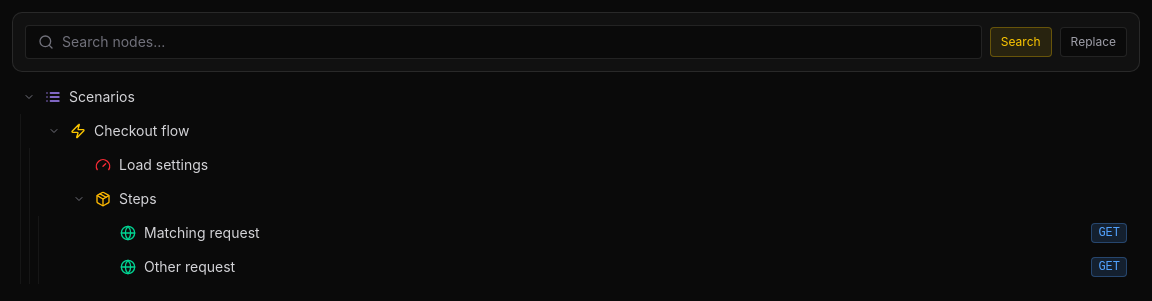
Test: YAMLTreeView search filtering › keeps request descendants hidden when a scenario only matches through duplicated request data
Type "needle-token" into the field with placeholder "Search nodes...". click: point(515, 42)
box: 62,32 -> 969,52
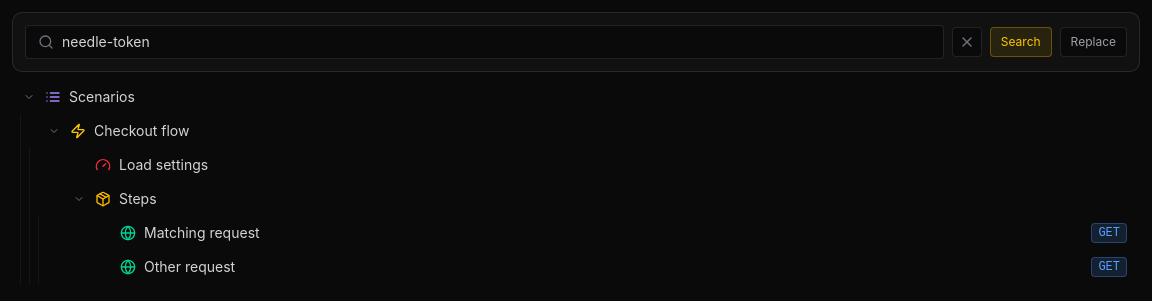
Click the button with aria-label "Search tree". click: point(1021, 42)
box: 990,27 -> 1052,57
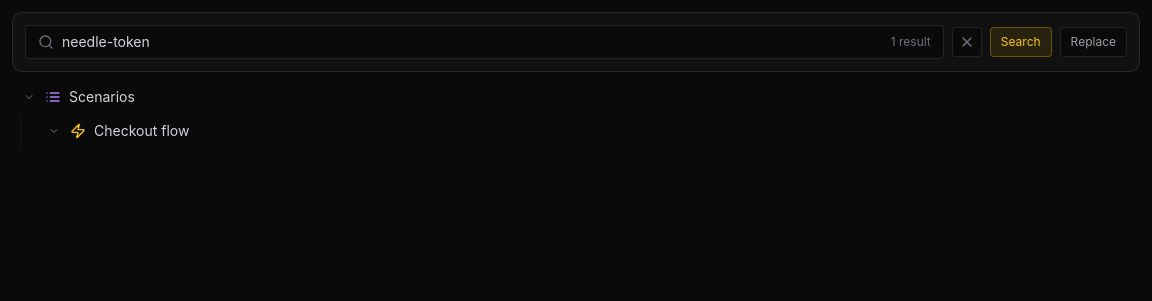
Expected: the text "Matching request" is gone
Expected: the text "Load settings" is gone
Expected: the text "Other request" is gone
